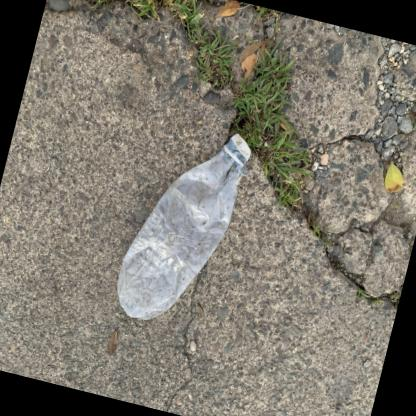Plastic: (116, 134, 250, 320), (230, 134, 251, 161)
